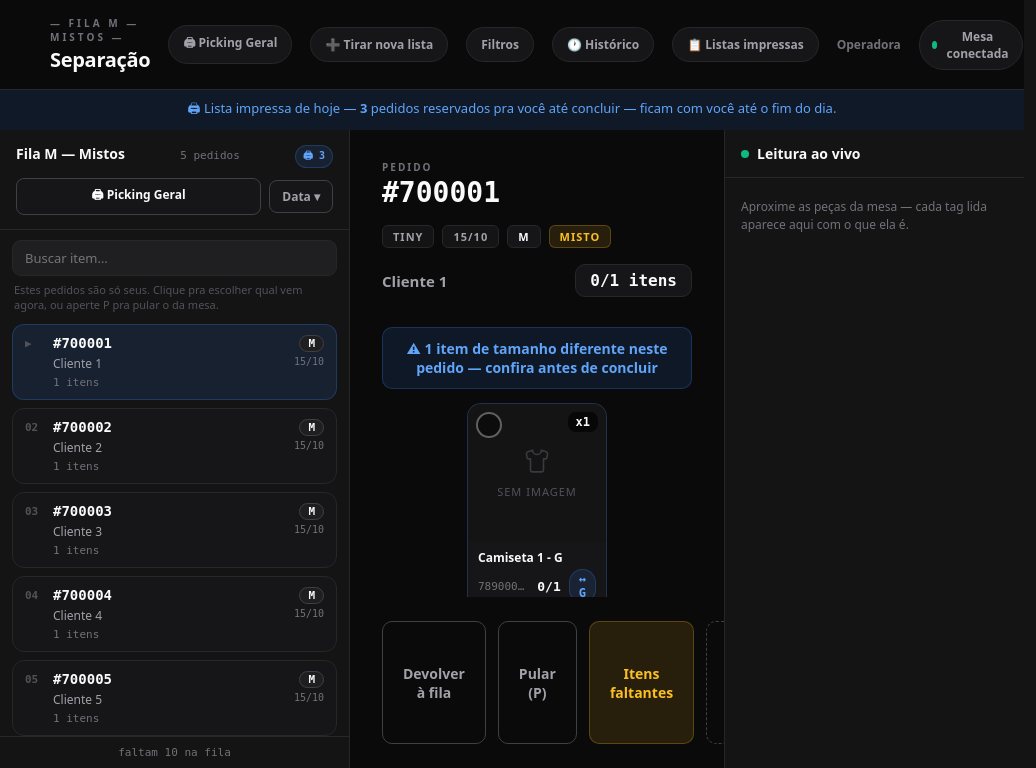
Test case: Tirar nova lista (mistos) › 409 limite_listas_abertas mostra a mensagem do servidor
Click the button "➕ Tirar nova lista": point(379, 44) top-left (310, 27), bottom-right (448, 62)
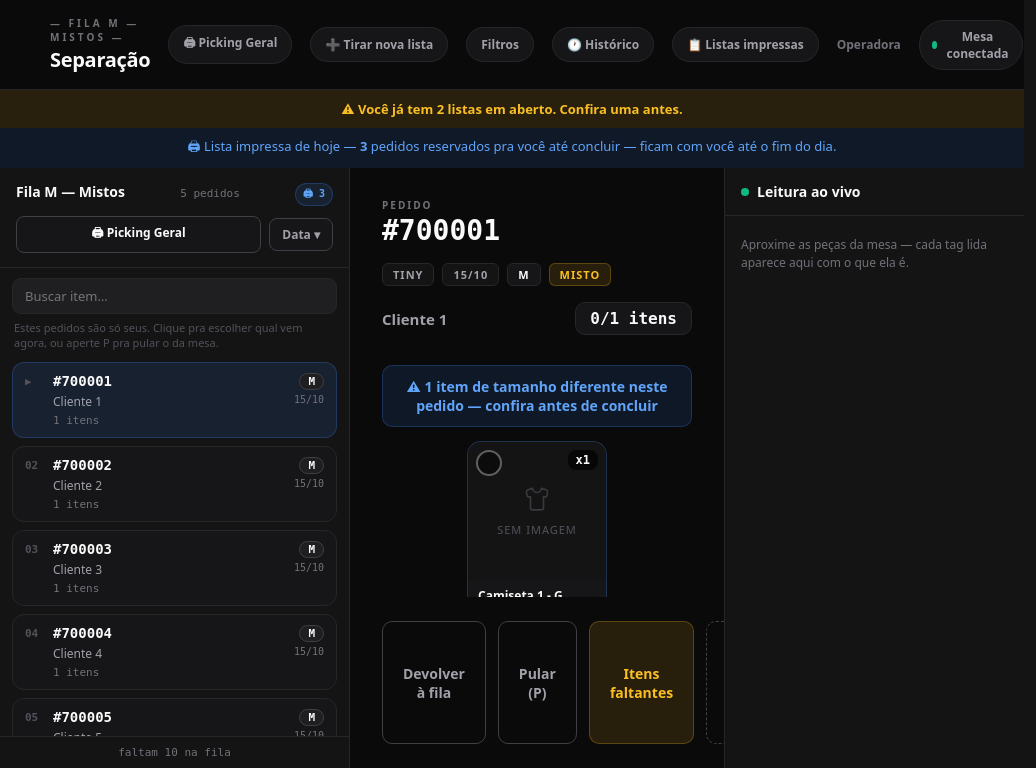
Now the text "⚠ Você já tem 2 listas em aberto. Confira uma antes." is shown, box top-left (0, 90), bottom-right (1024, 128)
